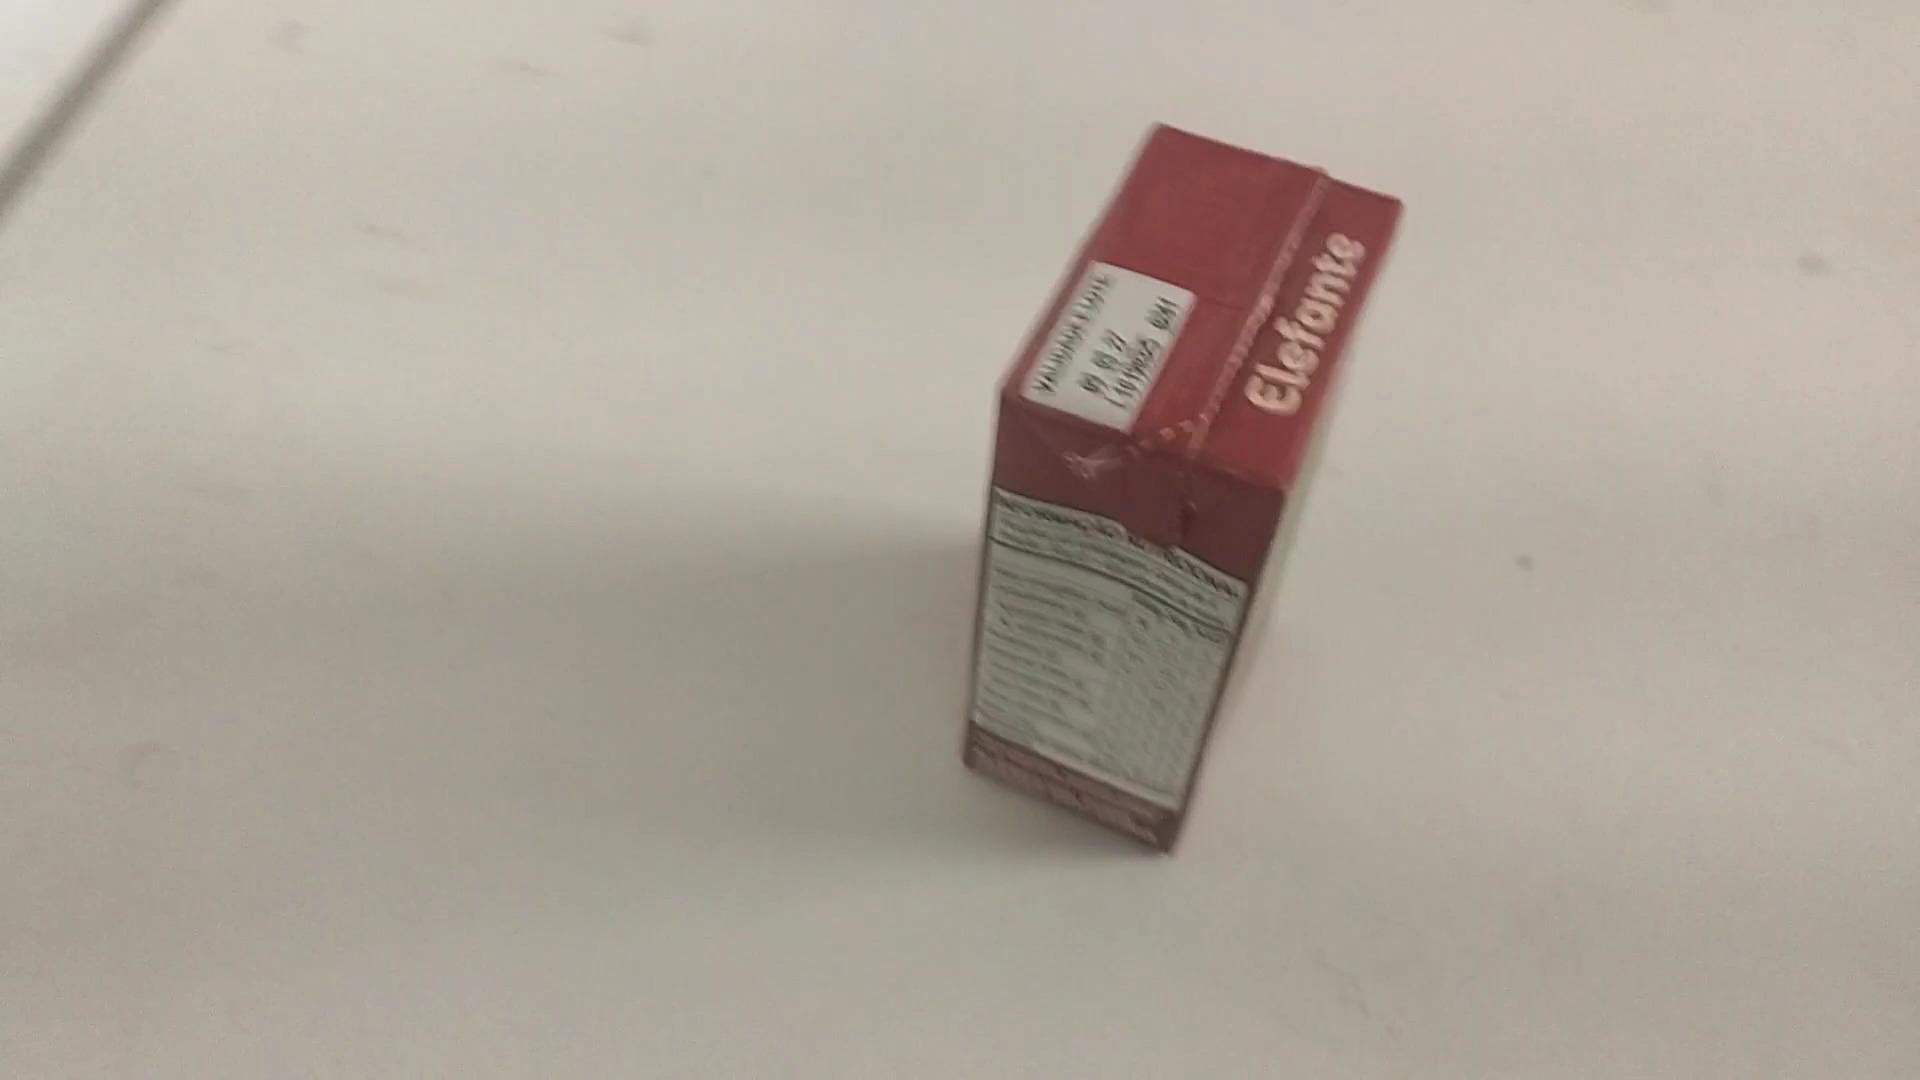tomate: (913, 100, 1429, 866)
